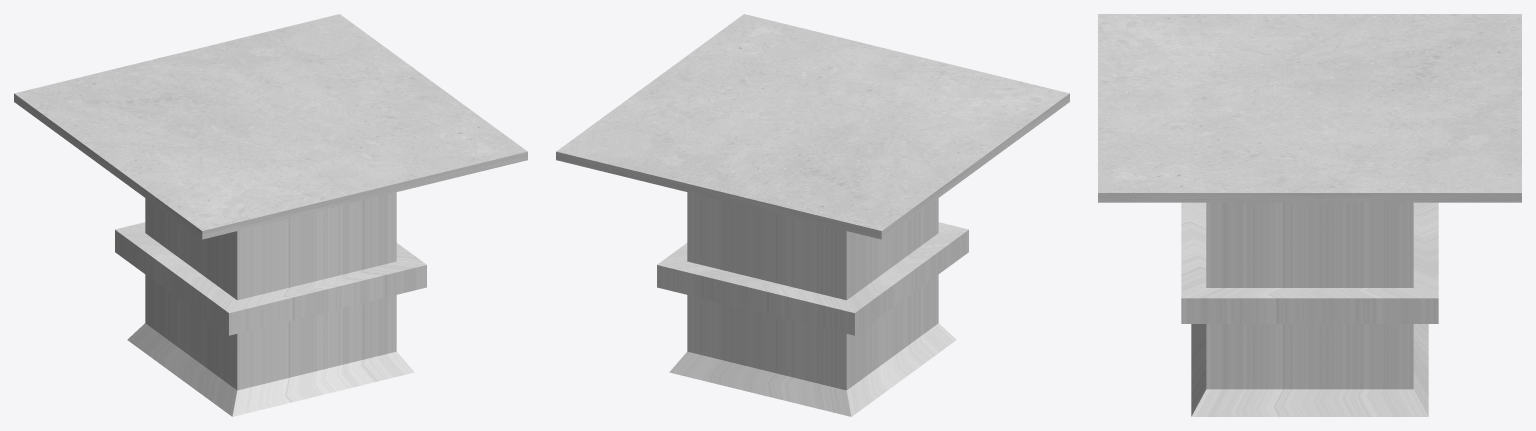
The model's file is Table_Laser_Room.fbx.
3 views of the same model, side by side, from view 1: azimuth 30°, elevation 25°; view 2: azimuth 150°, elevation 25°; view 3: azimuth 270°, elevation 25° (orthographic). The views are drawn at different scales.
Visible parts, largest first — view 1: Cube; view 2: Cube; view 3: Cube.
Boxes of the visible parts, bbox=[...] form: Cube: bbox=[14, 14, 527, 416]; Cube: bbox=[556, 14, 1069, 416]; Cube: bbox=[1098, 14, 1521, 416].
Size of the model in its own units: 569 by 390 by 569.
Materials: 1 (1 with a texture image).
